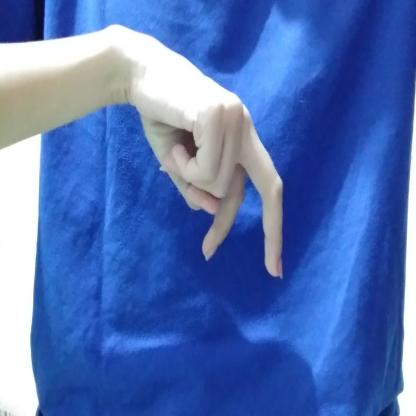run: (104, 21, 307, 285)
